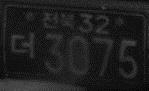0: (68, 34, 90, 77)
2: (95, 13, 111, 36)
3: (43, 32, 65, 73), (79, 11, 93, 33)
5: (116, 39, 139, 79)
7: (92, 36, 114, 78)
더: (10, 30, 36, 62)
전북_O: (42, 10, 75, 30)
